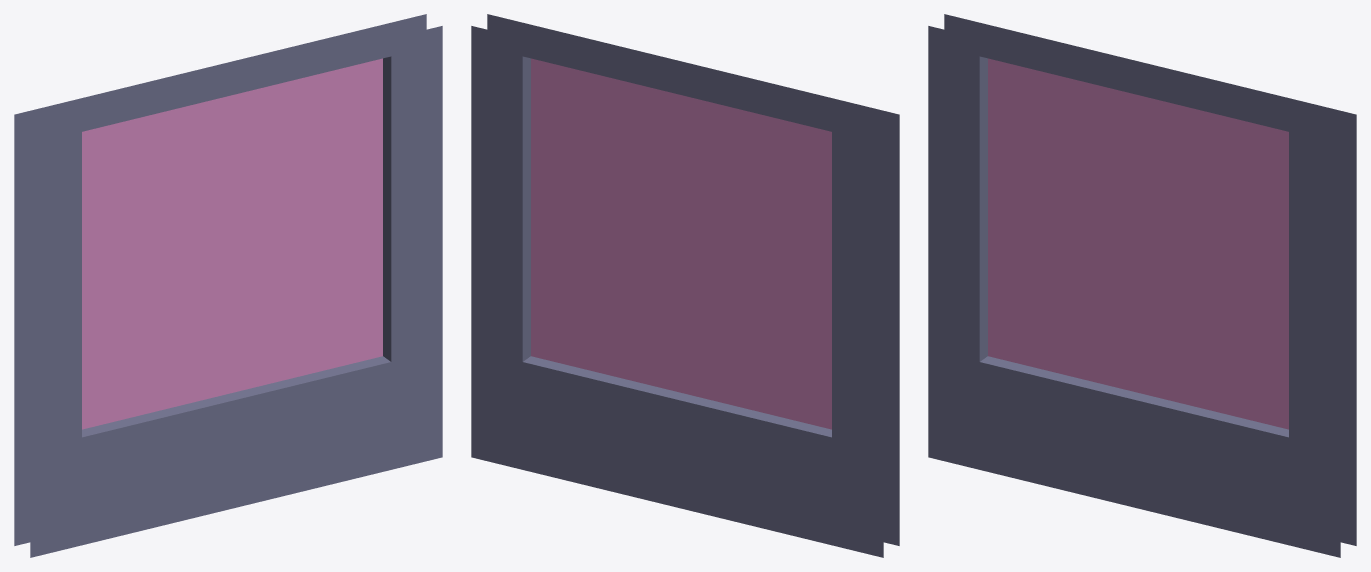
The model's file is SM_Wall_Window.FBX.
3 renders of one model, left to right at view 1: azimuth 30°, elevation 25°; view 2: azimuth 150°, elevation 25°; view 3: azimuth 330°, elevation 25°, orthographic.
Parts seen in each view (by area): view 1: Wall_Window; view 2: Wall_Window; view 3: Wall_Window.
Part boxes in pixels (<box>): Wall_Window: <box>14,14,442,557</box>; Wall_Window: <box>471,14,899,557</box>; Wall_Window: <box>928,14,1356,557</box>.
Bounding box in the file's own units: 512 × 512 × 34.49.
